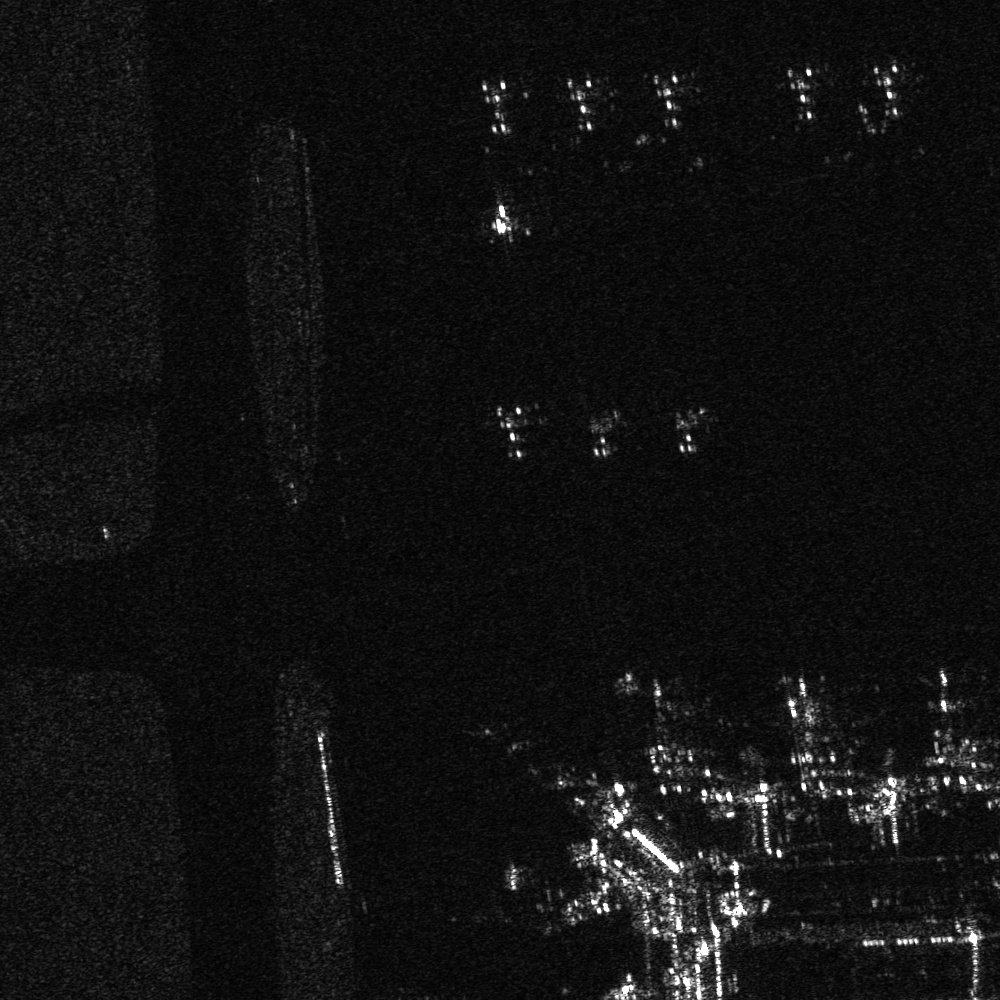A220: (772, 667, 838, 747), (575, 400, 626, 461)
A320/321: (661, 400, 715, 458)
ARJ21: (476, 396, 545, 464), (473, 192, 527, 248)
Boeing787: (912, 664, 979, 737)
other: (852, 55, 922, 125), (638, 63, 700, 139), (624, 668, 690, 738), (469, 72, 529, 139), (557, 65, 608, 139), (775, 59, 824, 129)
